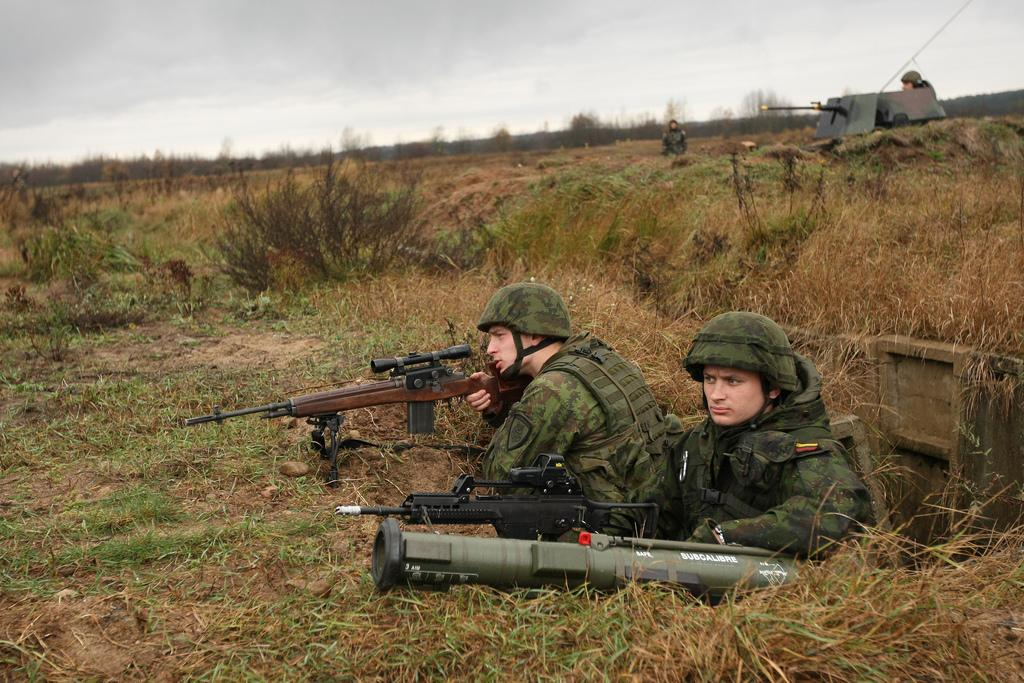Rifle: (183, 347, 532, 487), (326, 439, 662, 548)
